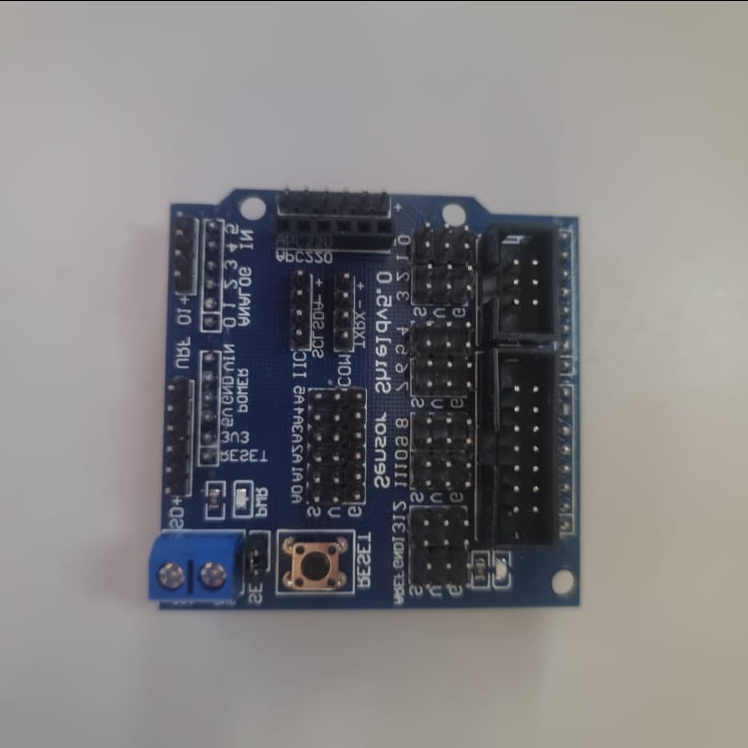5V EXPANSION: (147, 183, 582, 610)
